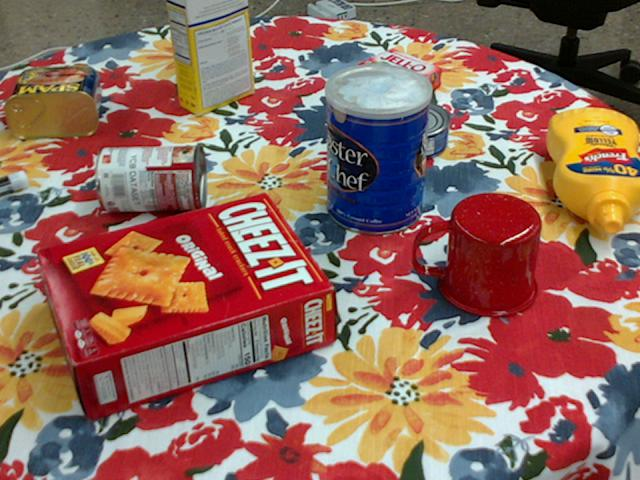cracker_box: (36, 194, 333, 422)
gelatin_box: (352, 50, 440, 106)
large_marker: (0, 170, 27, 194)
master_chef_can: (324, 64, 431, 236)
mug: (413, 192, 541, 318)
mustard_bottle: (545, 106, 639, 232)
potted_meat_can: (3, 65, 101, 138)
sugar_box: (167, 0, 253, 113)
tomato_soup_can: (94, 144, 204, 211)
tuna_fish_can: (376, 100, 450, 160)
